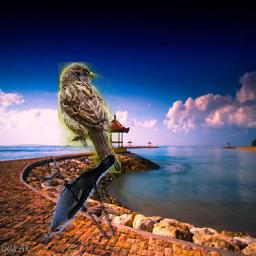Cuckoo: (45, 156, 116, 239)
Sparrow: (59, 63, 122, 174)
